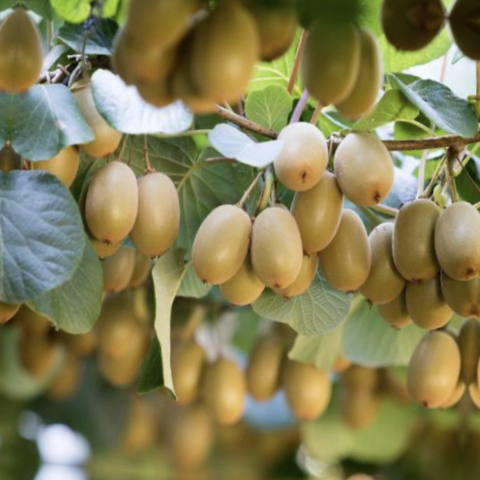kiwi: (382, 187, 459, 302), (187, 180, 262, 298), (118, 161, 193, 262), (329, 125, 404, 217), (236, 195, 309, 289), (402, 320, 469, 416), (80, 153, 142, 254)
